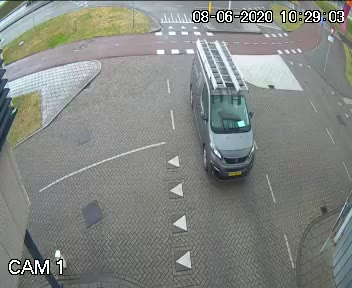car: (166, 44, 269, 189)
